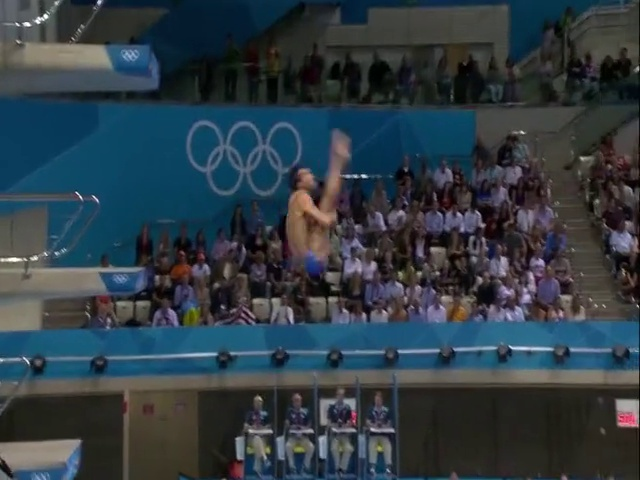diver: (286, 128, 352, 279)
